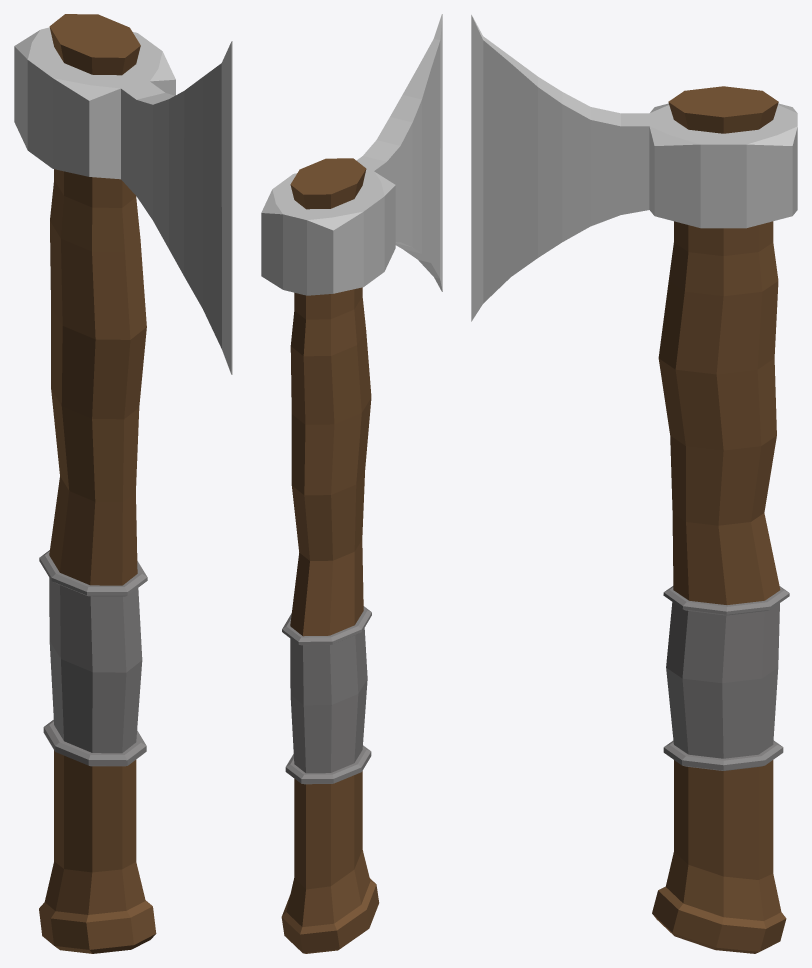
Rendered from axe.fbx.
3 renders of one model, left to right at view 1: azimuth 30°, elevation 25°; view 2: azimuth 150°, elevation 25°; view 3: azimuth 270°, elevation 25°, orthographic. The views are drawn at different scales.
Visible parts, largest first — view 1: Cube.001; view 2: Cube.001; view 3: Cube.001.
Part boxes in pixels (bbox=[...]): Cube.001: bbox=[14, 14, 232, 953]; Cube.001: bbox=[261, 14, 442, 953]; Cube.001: bbox=[471, 14, 797, 953].
Size of the model in its own units: 498 by 4374 by 1390.
